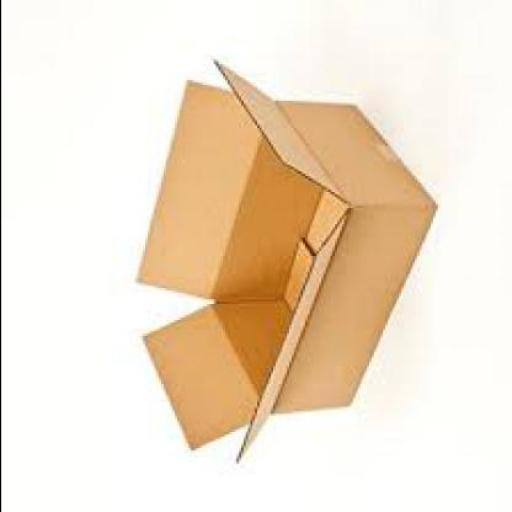cardboard: (133, 64, 434, 466)
